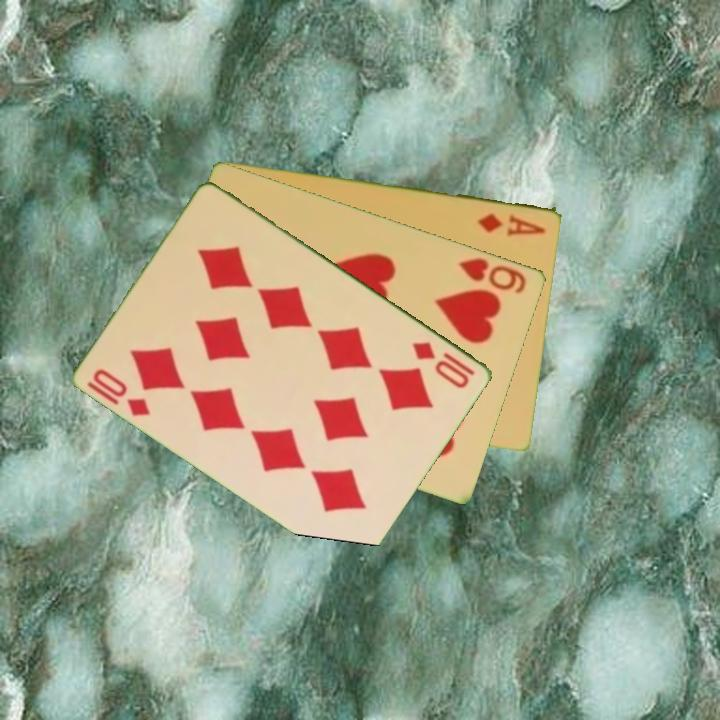10d: (408, 338, 479, 392), (89, 365, 155, 420)
6h: (455, 253, 530, 296)
Ad: (474, 209, 549, 238)
